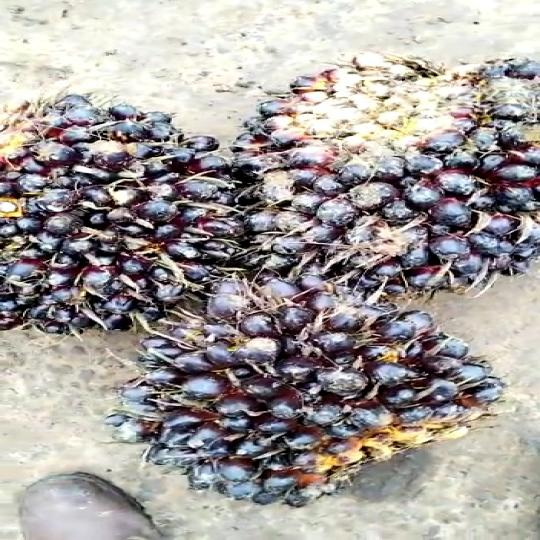mentah: (130, 275, 501, 505), (212, 51, 540, 291), (0, 93, 238, 337)
